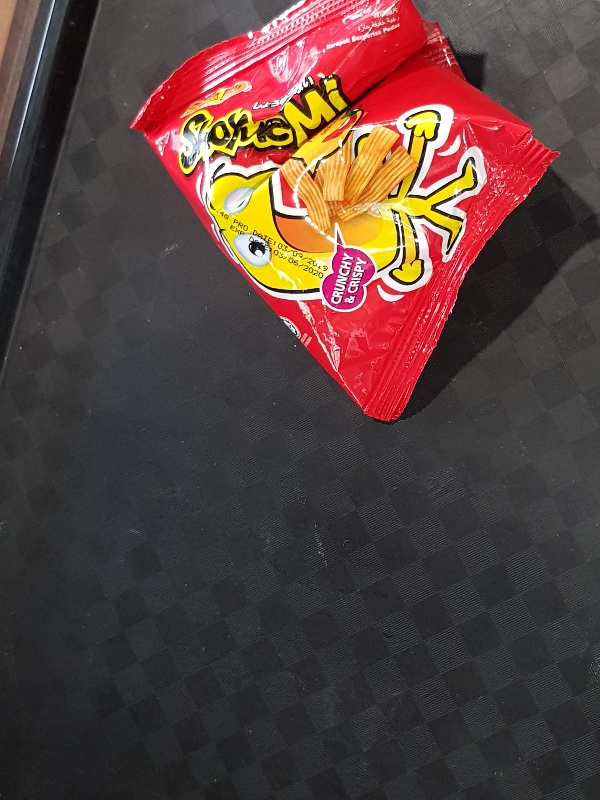ShoyueMi Spicy Flavoured Snacks: (126, 1, 562, 425)
